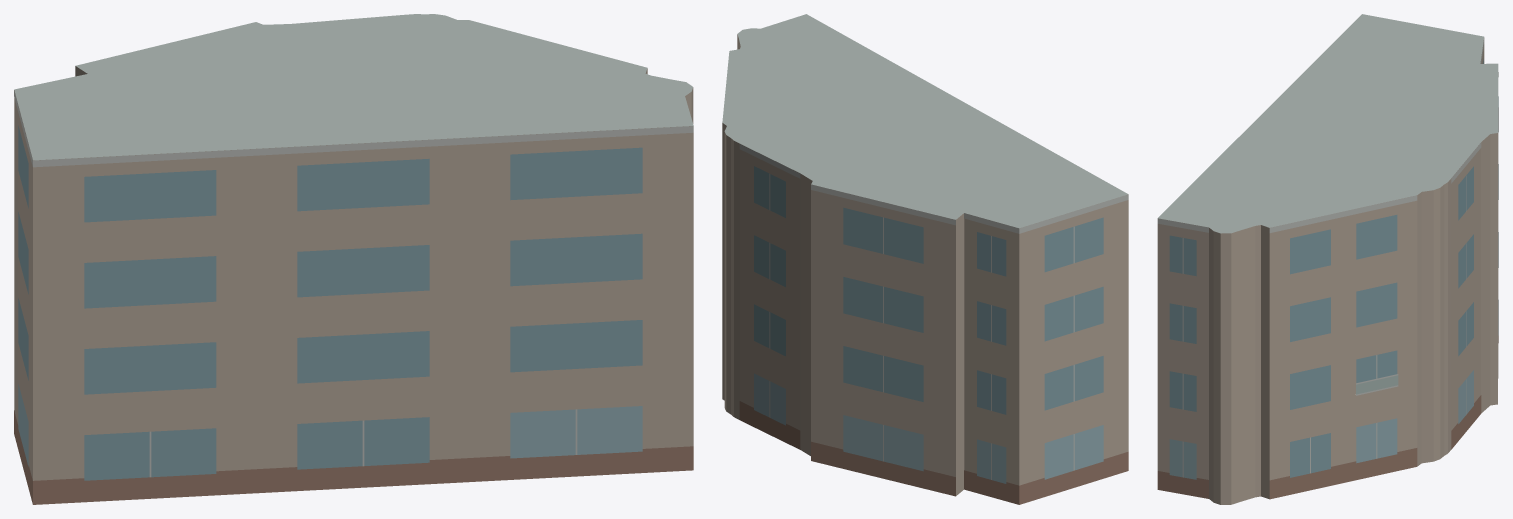
The model's file is survey-upis-32713138.glb.
3 views of the same model, side by side, from view 1: azimuth 30°, elevation 25°; view 2: azimuth 150°, elevation 25°; view 3: azimuth 270°, elevation 25° (orthographic). The views are drawn at different scales.
Parts seen in each view (by area): view 1: survey-upis-32713138.tmp; view 2: survey-upis-32713138.tmp; view 3: survey-upis-32713138.tmp.
Part boxes in pixels (bbox=[...]): survey-upis-32713138.tmp: bbox=[14, 14, 693, 504]; survey-upis-32713138.tmp: bbox=[722, 14, 1128, 504]; survey-upis-32713138.tmp: bbox=[1157, 14, 1498, 504].
Size of the model in its own units: 21.15 by 12.2 by 13.89.
